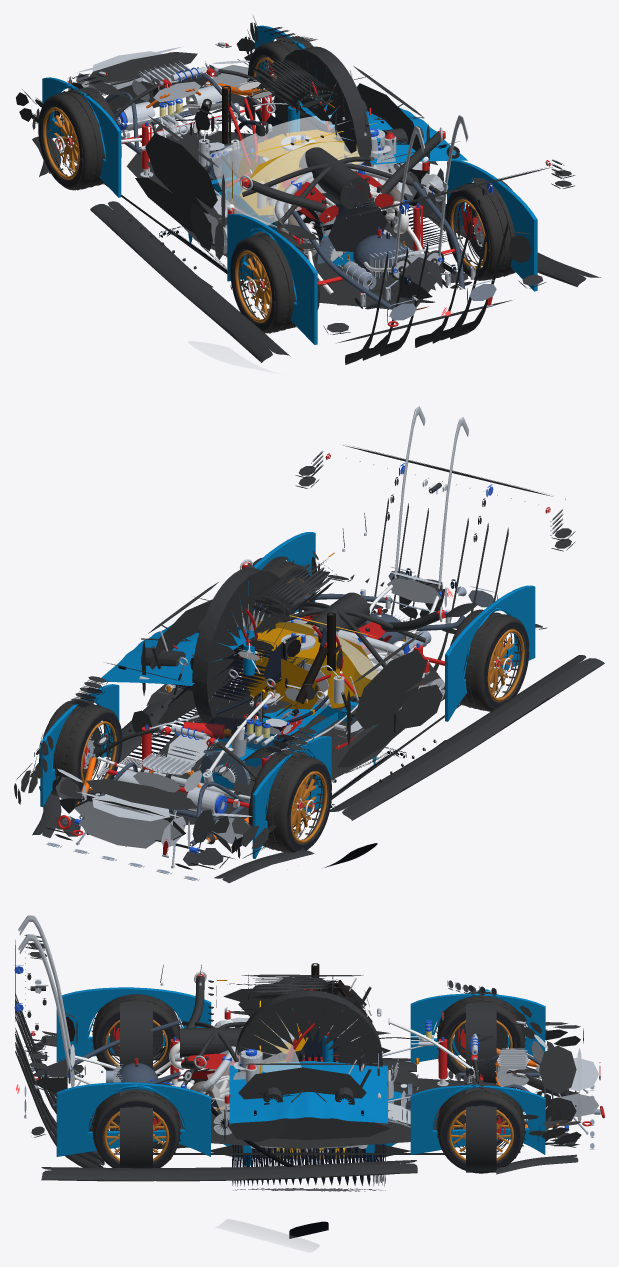
File: full_modular_car_assembly.glb
3 views of the same model, one above another, from view 1: azimuth 30°, elevation 25°; view 2: azimuth 150°, elevation 25°; view 3: azimuth 270°, elevation 25° (orthographic). The views are drawn at different scales.
Visible parts, largest first — view 1: Underbody_Aerodynamics_Venturi_Assembly, Front_Fender_LH, Powertrain_Bay_Detailed_Assembly, Rear_Window_Assembly, Block04_ProductionSculptedHood, Chassis_Sills_Doors_Extinguisher_Assembly, Front_Chromoly_Subframe_Cradle, Fuel_Cell_Refueling_System_Assembly, Diffuser_Strakes_Rain_Light_Assembly, Aux_Cheek_Cooler_LH, Tire_Seamless_Radial_Casing, Hybrid_KERS_Inverter_Assembly (+37 smaller); view 2: Underbody_Aerodynamics_Venturi_Assembly, Block04_ProductionSculptedHood, Front_Fender_LH, Chassis_Sills_Doors_Extinguisher_Assembly, Front_Chromoly_Subframe_Cradle, Aux_Cheek_Cooler_LH, Fuel_Cell_Refueling_System_Assembly, Powertrain_Bay_Detailed_Assembly, Tire_Seamless_Radial_Casing, Tire_Seamless_Radial_Casing.002, Hybrid_KERS_Inverter_Assembly, Tire_Seamless_Radial_Casing.001 (+29 smaller); view 3: Front_Fender_LH, Block04_ProductionSculptedHood, Underbody_Aerodynamics_Venturi_Assembly, Chassis_Sills_Doors_Extinguisher_Assembly, Powertrain_Bay_Detailed_Assembly, Front_Chromoly_Subframe_Cradle, FrontSplitter_Assembly, Diffuser_Strakes_Rain_Light_Assembly, Aux_Cheek_Cooler_LH, Tire_Seamless_Radial_Casing.001, Tire_Seamless_Radial_Casing.003, Swan_Neck_Pylons_Pitch_Plates_Assembly (+28 smaller).
Part boxes in pixels (box(x1,y1,x2,y2)): Underbody_Aerodynamics_Venturi_Assembly: box(67, 125, 600, 362); Front_Fender_LH: box(42, 25, 537, 344); Powertrain_Bay_Detailed_Assembly: box(242, 145, 426, 255); Rear_Window_Assembly: box(212, 115, 412, 225); Block04_ProductionSculptedHood: box(274, 46, 467, 211); Chassis_Sills_Doors_Extinguisher_Assembly: box(135, 66, 436, 261); Front_Chromoly_Subframe_Cradle: box(76, 51, 465, 309); Fuel_Cell_Refueling_System_Assembly: box(238, 127, 445, 212); Diffuser_Strakes_Rain_Light_Assembly: box(345, 220, 508, 364); Aux_Cheek_Cooler_LH: box(54, 52, 249, 125); Tire_Seamless_Radial_Casing: box(41, 88, 121, 190); Hybrid_KERS_Inverter_Assembly: box(114, 61, 222, 131); Underbody_Aerodynamics_Venturi_Assembly: box(109, 654, 604, 859); Block04_ProductionSculptedHood: box(101, 567, 289, 733); Front_Fender_LH: box(40, 532, 535, 858); Chassis_Sills_Doors_Extinguisher_Assembly: box(131, 582, 426, 776); Front_Chromoly_Subframe_Cradle: box(78, 579, 465, 848); Aux_Cheek_Cooler_LH: box(52, 768, 252, 853); Fuel_Cell_Refueling_System_Assembly: box(240, 559, 445, 709); Powertrain_Bay_Detailed_Assembly: box(285, 592, 425, 671); Tire_Seamless_Radial_Casing: box(248, 752, 331, 852); Tire_Seamless_Radial_Casing.002: box(450, 609, 528, 711); Hybrid_KERS_Inverter_Assembly: box(116, 751, 227, 816); Tire_Seamless_Radial_Casing.001: box(39, 700, 119, 799); Front_Fender_LH: box(56, 985, 545, 1172); Block04_ProductionSculptedHood: box(229, 990, 388, 1123); Underbody_Aerodynamics_Venturi_Assembly: box(40, 1031, 524, 1181); Chassis_Sills_Doors_Extinguisher_Assembly: box(222, 975, 410, 1139); Powertrain_Bay_Detailed_Assembly: box(169, 1021, 253, 1107); Front_Chromoly_Subframe_Cradle: box(33, 1020, 598, 1124); FrontSplitter_Assembly: box(232, 1143, 385, 1191); Diffuser_Strakes_Rain_Light_Assembly: box(15, 994, 104, 1167); Aux_Cheek_Cooler_LH: box(531, 1034, 576, 1141); Tire_Seamless_Radial_Casing.001: box(438, 1082, 524, 1173); Tire_Seamless_Radial_Casing.003: box(93, 1090, 179, 1167); Swan_Neck_Pylons_Pitch_Plates_Assembly: box(14, 915, 71, 1071).
Size of the model in its own units: 2.75 by 2.73 by 4.63.
